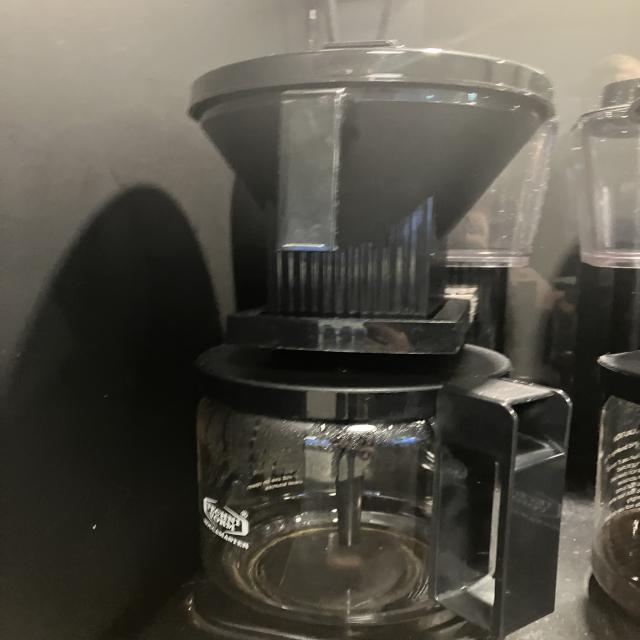nocoffee: (173, 356, 531, 620), (584, 344, 640, 615)
